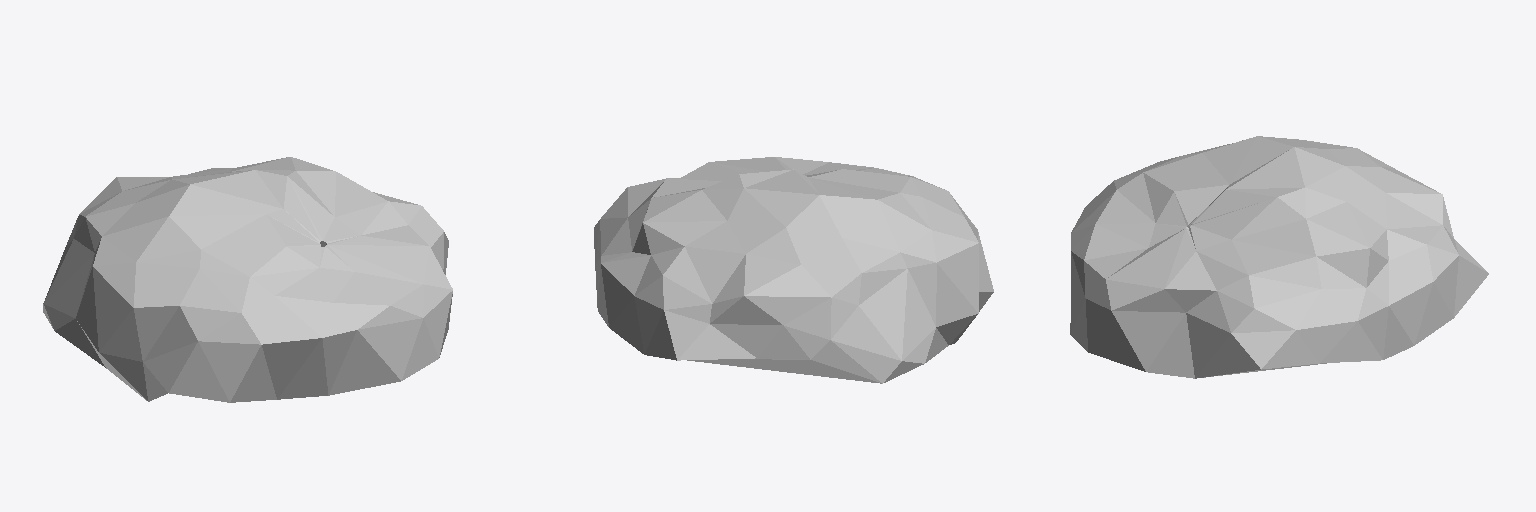
File: tunnel_meteorite.obj
The picture shows the model from 3 angles: view 1: azimuth 30°, elevation 25°; view 2: azimuth 150°, elevation 25°; view 3: azimuth 270°, elevation 25°; orthographic projection.
Parts seen in each view (by area): view 1: GeoSphere002; view 2: GeoSphere002; view 3: GeoSphere002.
Boxes of the visible parts, <box> form: GeoSphere002: <box>43,157,452,402</box>; GeoSphere002: <box>594,157,993,383</box>; GeoSphere002: <box>1070,136,1488,378</box>.
Bounding box in the file's own units: 5826 × 2442 × 5754.